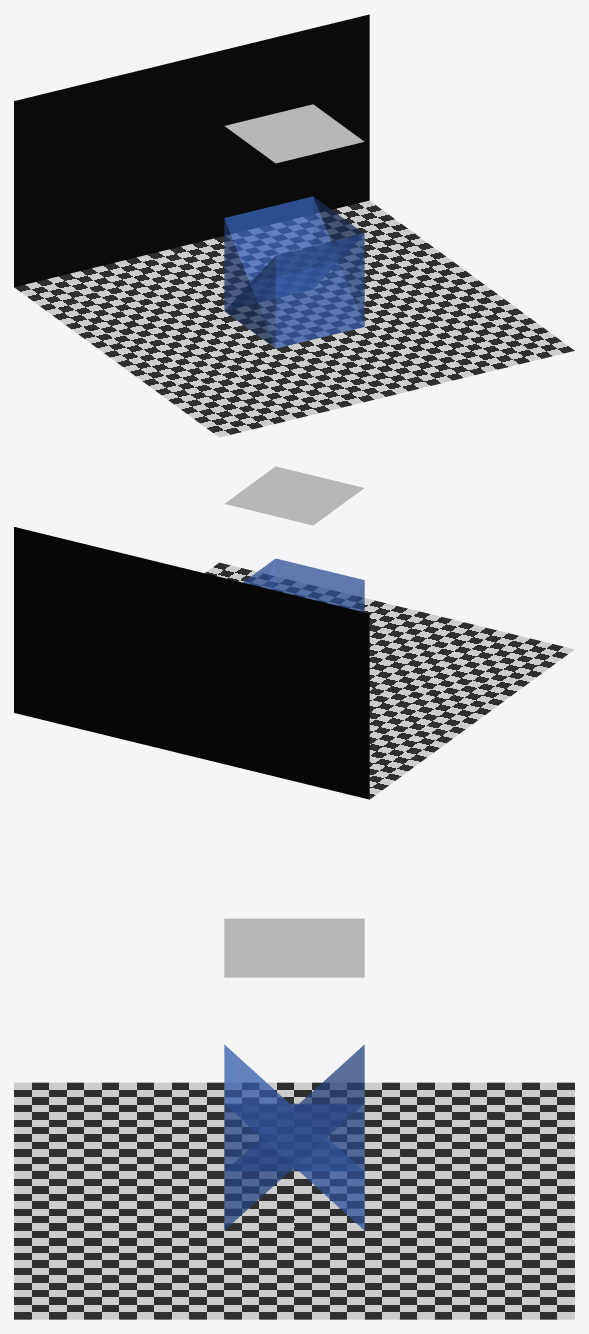
File: room.obj
3 renders of one model, top to bottom at view 1: azimuth 30°, elevation 25°; view 2: azimuth 150°, elevation 25°; view 3: azimuth 270°, elevation 25°, orthographic. The views are drawn at different scales.
Visible parts, largest first — view 1: Floor, MirrorWall, Box, Light; view 2: MirrorWall, Floor, Light, Box; view 3: Floor, Box, Light.
Part boxes in pixels (left/top/right/bottom): Floor: left=14, top=200, right=574, bottom=437; MirrorWall: left=14, top=14, right=369, bottom=286; Box: left=224, top=196, right=364, bottom=348; Light: left=225, top=104, right=364, bottom=163; MirrorWall: left=14, top=527, right=369, bottom=799; Floor: left=205, top=562, right=574, bottom=799; Light: left=224, top=466, right=363, bottom=525; Box: left=243, top=558, right=364, bottom=612; Floor: left=14, top=1082, right=574, bottom=1319; Box: left=224, top=1044, right=364, bottom=1230; Light: left=224, top=918, right=364, bottom=977.
Size of the model in its own units: 4 by 2 by 4.
Materials: 4 (1 with a texture image).
